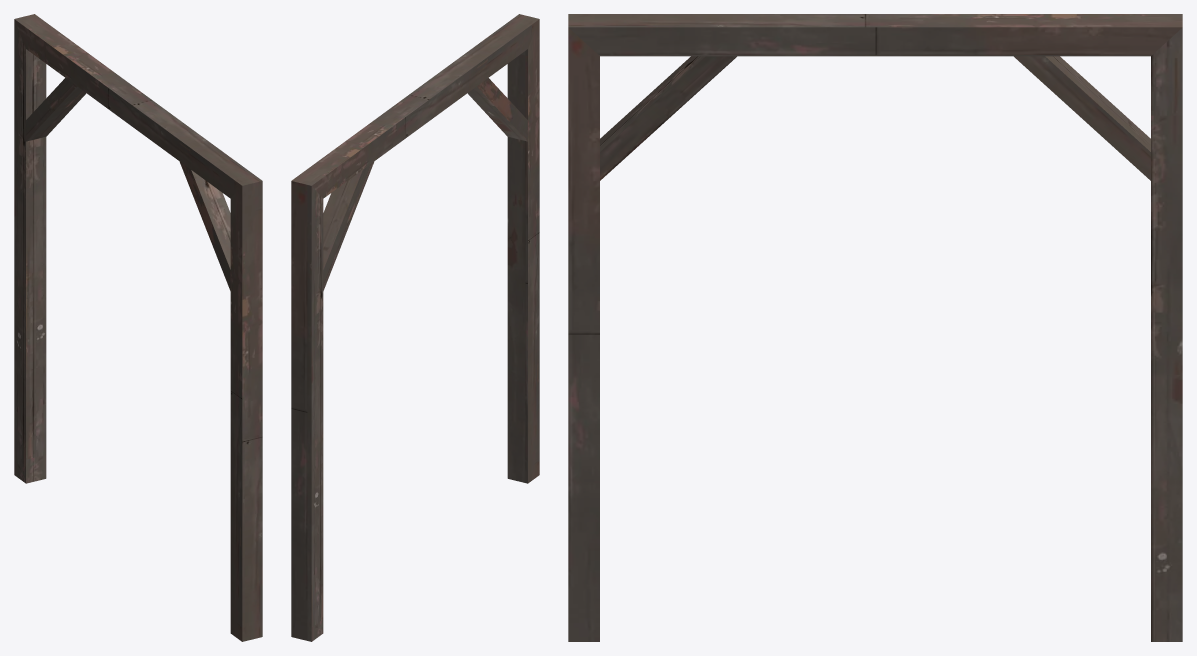
3 renders of one model, left to right at view 1: azimuth 30°, elevation 25°; view 2: azimuth 150°, elevation 25°; view 3: azimuth 270°, elevation 25°, orthographic. The views are drawn at different scales.
Visible parts, largest first — view 1: body0_model0_lod0_mesh0; view 2: body0_model0_lod0_mesh0; view 3: body0_model0_lod0_mesh0.
Boxes of the visible parts, x1,y1,x2,y2 form: body0_model0_lod0_mesh0: (14, 14, 262, 641); body0_model0_lod0_mesh0: (291, 14, 539, 641); body0_model0_lod0_mesh0: (568, 14, 1182, 641).
Size of the model in its own units: 12 by 256 by 232.
1 material, 1 textured.
